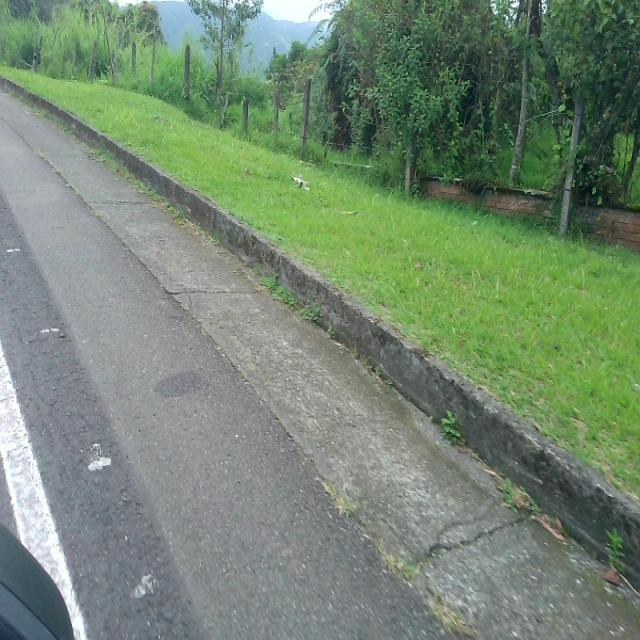DITCH: (1, 55, 638, 638), (1, 59, 638, 638), (1, 74, 638, 639)
